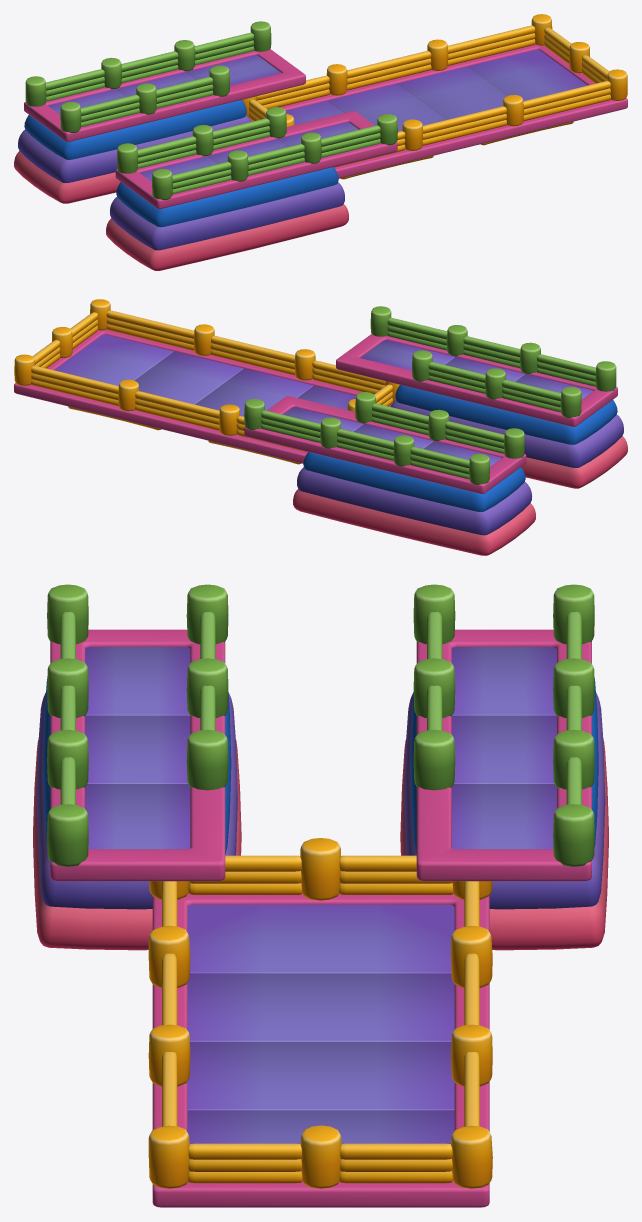
The picture shows the model from 3 angles, top to bottom: view 1: azimuth 30°, elevation 25°; view 2: azimuth 150°, elevation 25°; view 3: azimuth 270°, elevation 25°; orthographic projection. The views are drawn at different scales.
Visible parts, largest first — view 1: Part4; view 2: Part4; view 3: Part4.
Part boxes in pixels (left/top/right/bottom): Part4: left=14, top=14, right=627, bottom=270; Part4: left=14, top=299, right=627, bottom=555; Part4: left=33, top=584, right=608, bottom=1207.
Bounding box in the file's own units: 43.63 × 7.6 × 21.38.
Materials: 1 (1 with a texture image).
